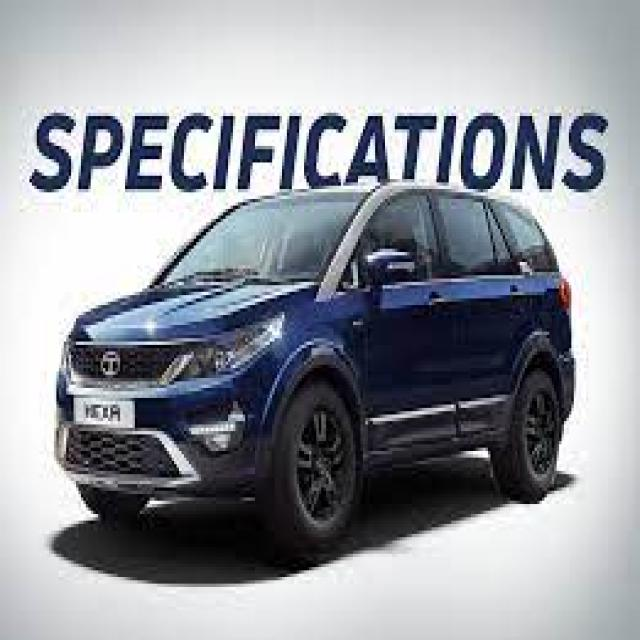SUV: (46, 185, 573, 560)
